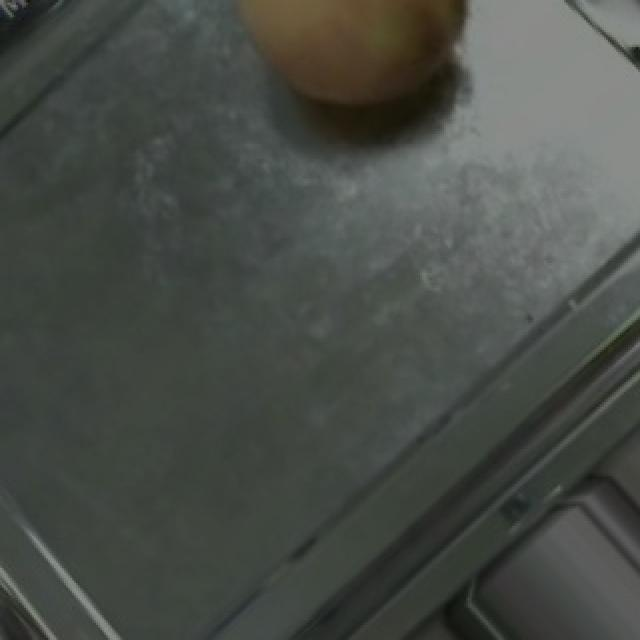Fruit: (194, 0, 510, 166)
